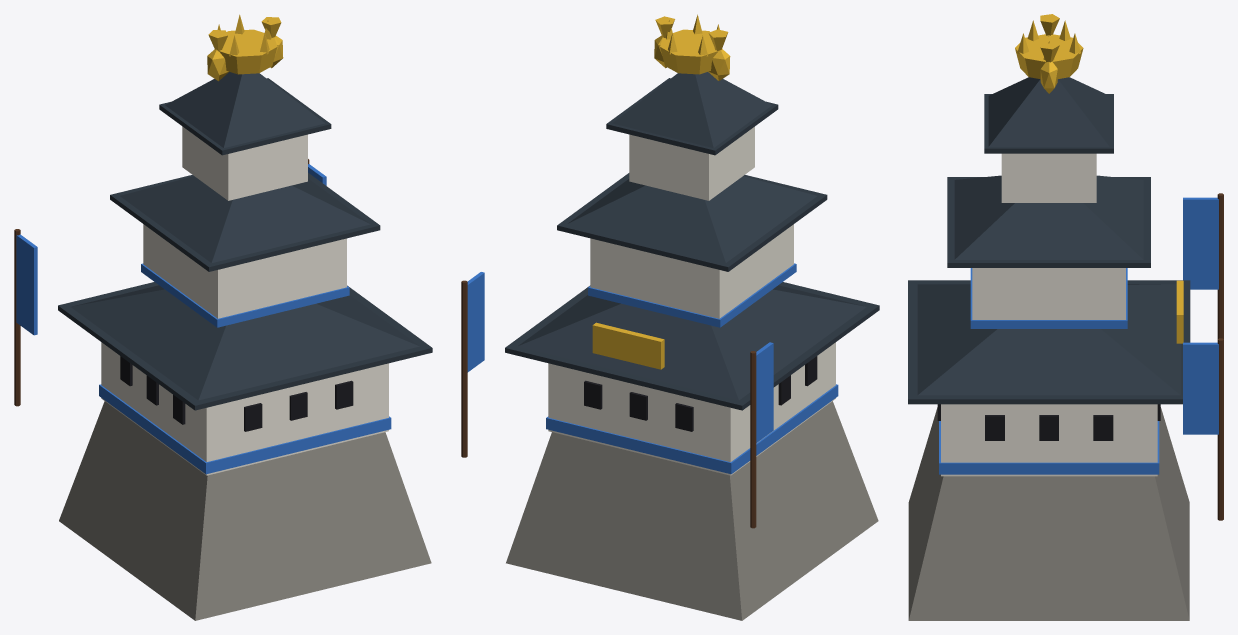
The model's file is tenshu.glb.
3 views of the same model, side by side, from view 1: azimuth 30°, elevation 25°; view 2: azimuth 150°, elevation 25°; view 3: azimuth 270°, elevation 25° (orthographic). The views are drawn at different scales.
Parts seen in each view (by area): view 1: Cone, Cone.001, Cube, Cone.002, Cube.016, Cone.003, Cube.019, Cube.014, Cube.001, Cube.018, Cube.017, Cube.021 (+3 smaller); view 2: Cone, Cone.001, Cube, Cone.002, Cube.016, Cone.003, Cube.019, Cube.014, Cube.001, Cube.018, Cube.015, Cube.017 (+6 smaller); view 3: Cone, Cone.001, Cone.002, Cube, Cube.016, Cone.003, Cube.014, Cube.019, Cube.022, Cube.021, Cube.001, Cube.018 (+10 smaller).
Boxes of the visible parts, x1=… form: Cone: x1=59, y1=401, x2=431, y2=620; Cone.001: x1=71, y1=285, x2=419, y2=400; Cube: x1=101, y1=342, x2=388, y2=475; Cone.002: x1=120, y1=176, x2=370, y2=263; Cube.016: x1=143, y1=224, x2=346, y2=318; Cone.003: x1=165, y1=72, x2=324, y2=147; Cube.019: x1=182, y1=126, x2=307, y2=200; Cube.014: x1=58, y1=282, x2=432, y2=410; Cube.001: x1=99, y1=384, x2=391, y2=474; Cube.018: x1=110, y1=173, x2=380, y2=271; Cube.017: x1=141, y1=263, x2=349, y2=327; Cube.021: x1=16, y1=234, x2=37, y2=335; Cone: x1=506, y1=401, x2=878, y2=620; Cone.001: x1=518, y1=285, x2=866, y2=400; Cube: x1=548, y1=342, x2=835, y2=475; Cone.002: x1=567, y1=176, x2=816, y2=262; Cube.016: x1=590, y1=224, x2=793, y2=318; Cone.003: x1=612, y1=72, x2=771, y2=148; Cube.019: x1=629, y1=126, x2=754, y2=200; Cube.014: x1=505, y1=282, x2=879, y2=410; Cube.001: x1=546, y1=384, x2=838, y2=474; Cube.018: x1=557, y1=173, x2=827, y2=271; Cube.015: x1=592, y1=322, x2=664, y2=369; Cube.017: x1=588, y1=263, x2=796, y2=327; Cone: x1=908, y1=407, x2=1189, y2=620; Cone.001: x1=917, y1=284, x2=1180, y2=395; Cone.002: x1=954, y1=175, x2=1143, y2=259; Cube: x1=941, y1=404, x2=1157, y2=476; Cube.016: x1=972, y1=268, x2=1125, y2=319; Cone.003: x1=988, y1=77, x2=1109, y2=146; Cube.014: x1=908, y1=280, x2=1190, y2=404; Cube.019: x1=1001, y1=153, x2=1096, y2=202; Cube.022: x1=1183, y1=342, x2=1218, y2=434; Cube.021: x1=1183, y1=197, x2=1218, y2=289; Cube.001: x1=939, y1=421, x2=1159, y2=474; Cube.018: x1=947, y1=177, x2=1150, y2=267.
Bounding box in the file's own units: 3.86 × 6.51 × 3.5.
